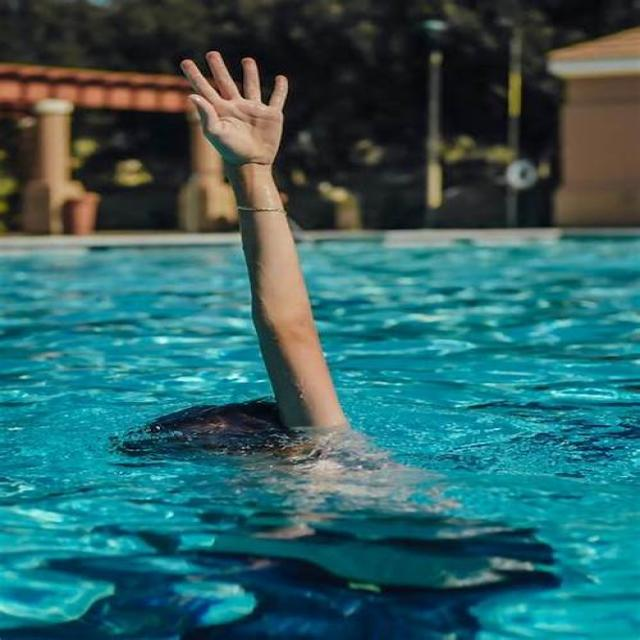drowning: (46, 31, 463, 562)
